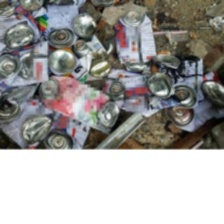aerosol_cans: (36, 73, 123, 134), (159, 78, 223, 137), (0, 90, 57, 155), (112, 7, 162, 74), (43, 38, 97, 92), (0, 36, 51, 91), (32, 0, 85, 52), (163, 51, 208, 110), (0, 0, 40, 47)
